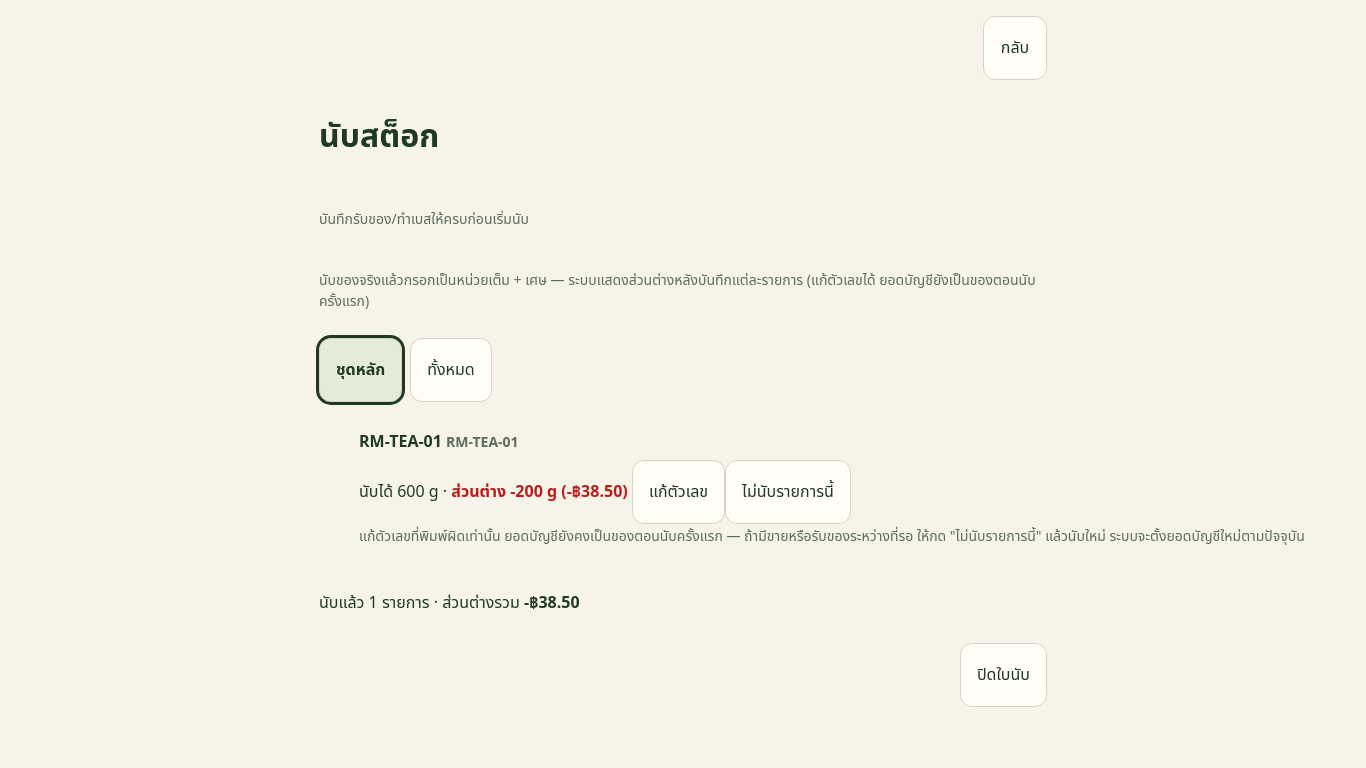
Scenario: CountScreen — starting and closing a count invalidate stockKey (review m-5 · m-7 M4), and starting also invalidates bootstrapKey (review m-2, final review) › closing a count invalidates stockKey
Step 1. Click the button with test id "count-close" → click(1003, 675), box [960,643,1047,707]
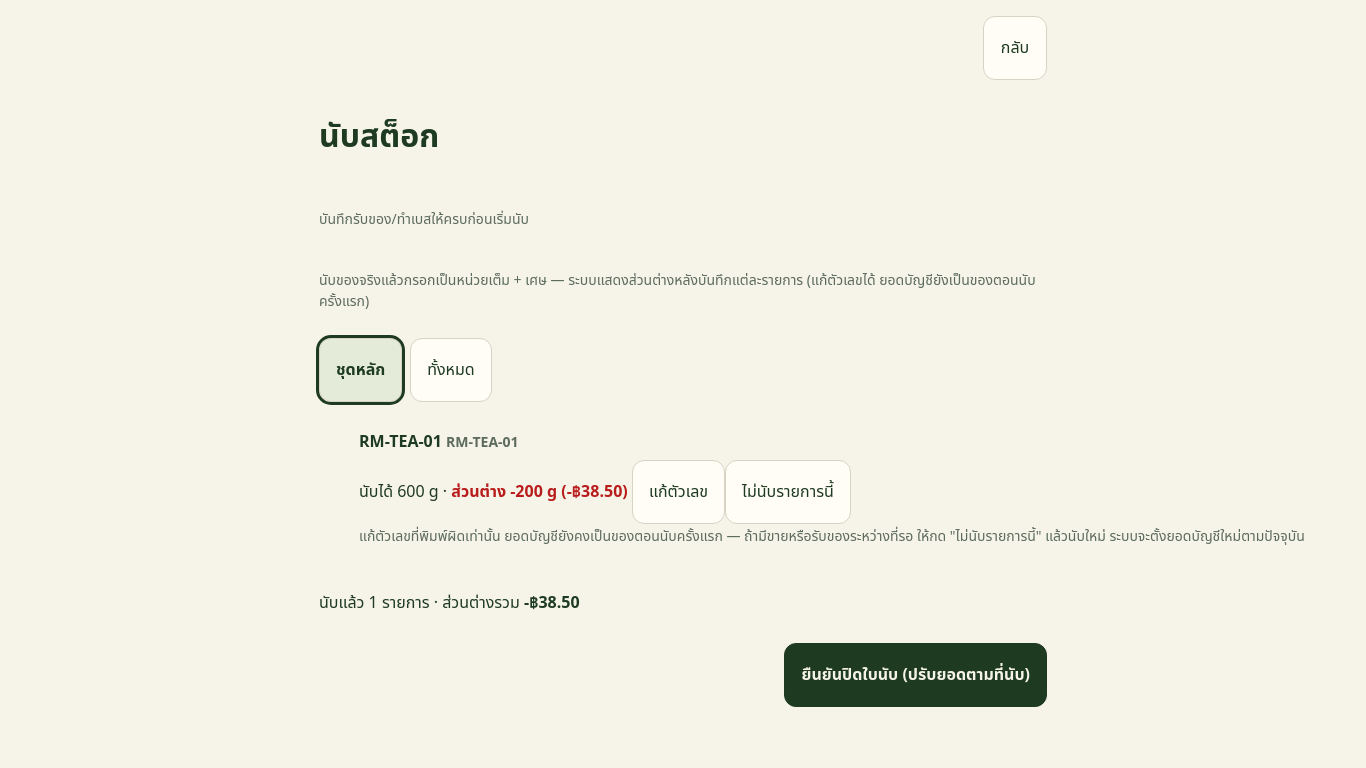
Step 2. Click the button with test id "count-close-confirm" → click(916, 675), box [784,643,1047,707]
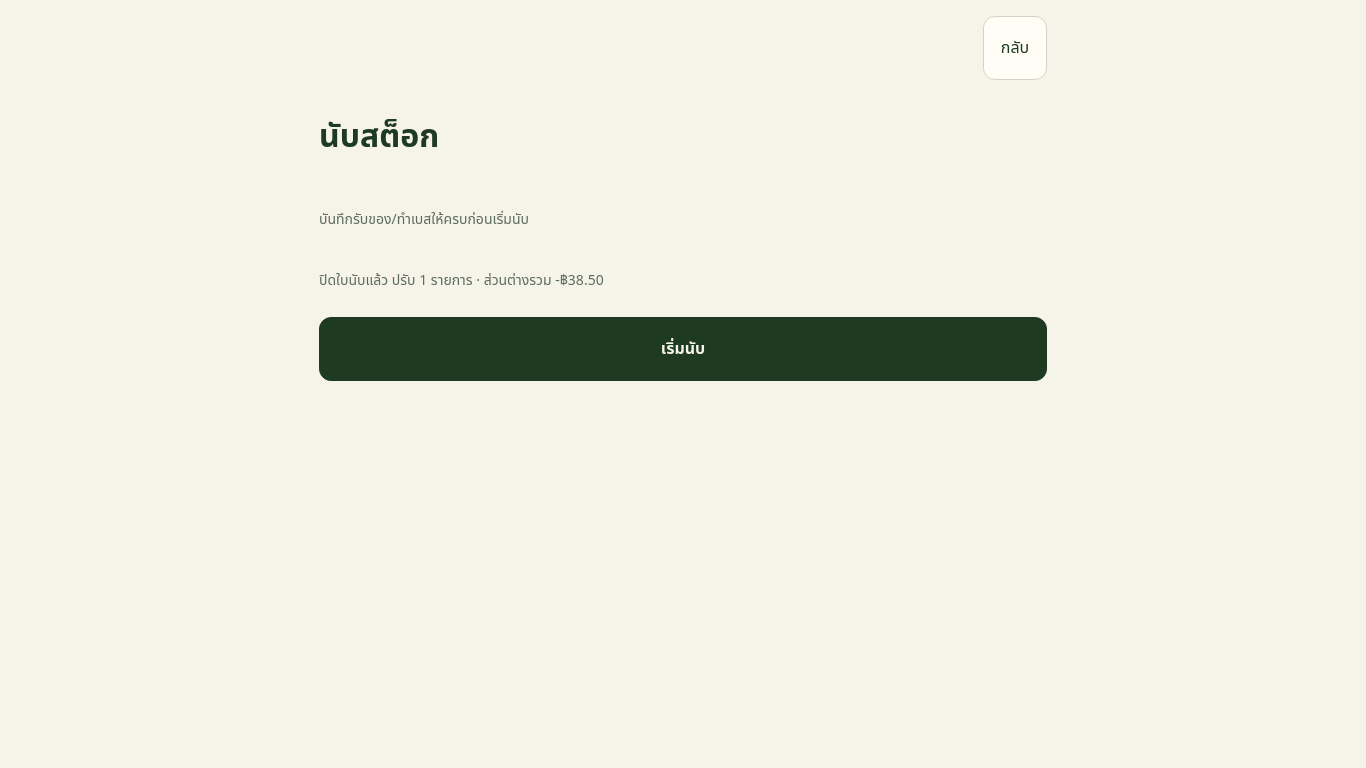
Check: the text "ปิดใบนับแล้ว ปรับ 1 รายการ · ส่วนต่างรวม -฿38.50" is shown, box [319,270,604,289]
